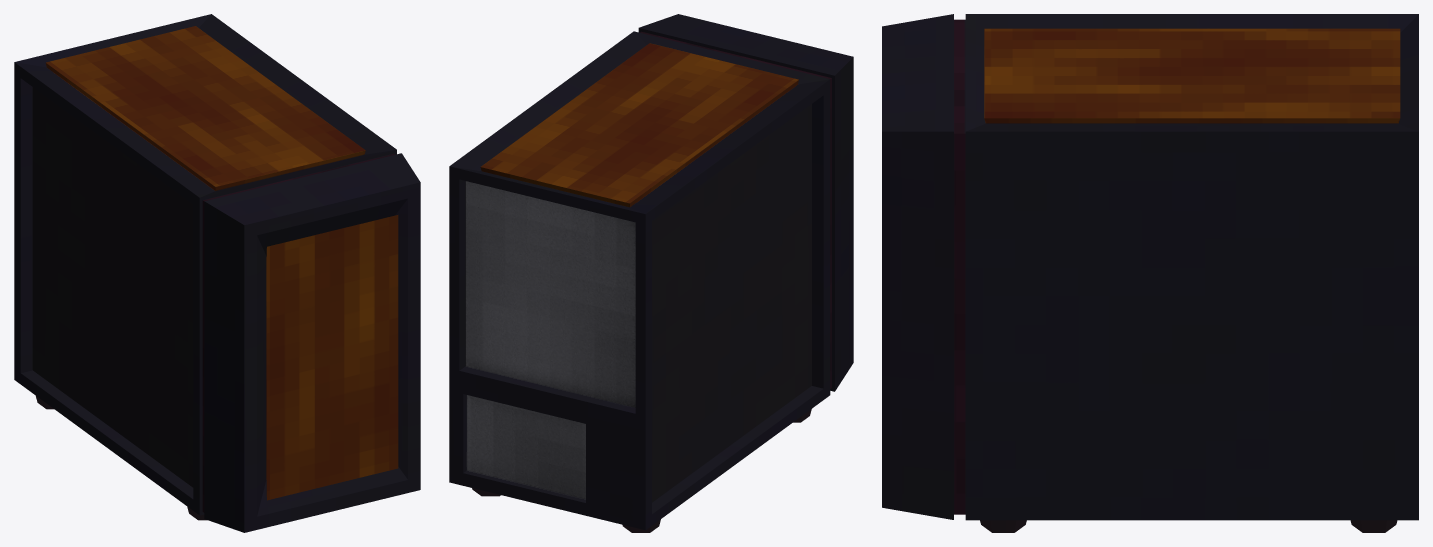
3 views of the same model, side by side, from view 1: azimuth 30°, elevation 25°; view 2: azimuth 150°, elevation 25°; view 3: azimuth 270°, elevation 25° (orthographic). The views are drawn at different scales.
Parts seen in each view (by area): view 1: modern computer; view 2: modern computer; view 3: modern computer.
Boxes of the visible parts, box(x1,y1,x2,y2) form: modern computer: box(14, 14, 420, 532); modern computer: box(449, 14, 853, 532); modern computer: box(882, 14, 1418, 532).
Size of the model in its own units: 33.14 by 53.4 by 63.87.
Materials: 1 (1 with a texture image).
